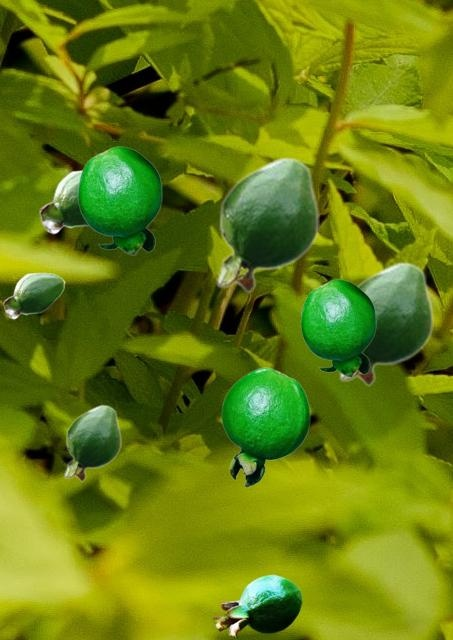guava: (216, 156, 318, 293), (339, 261, 432, 386), (221, 367, 309, 486), (77, 146, 161, 254), (300, 279, 375, 376), (213, 574, 301, 637), (64, 404, 120, 481), (39, 169, 88, 233), (3, 272, 64, 318)
